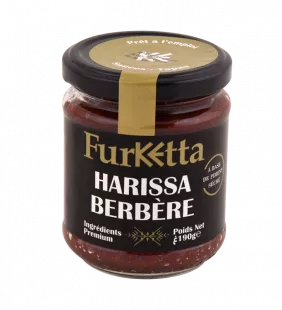FURKITTA: (52, 20, 244, 284)
